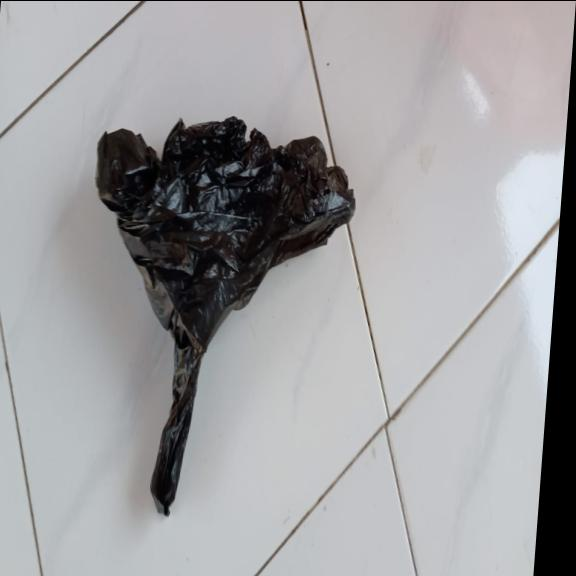Plastik: (67, 115, 360, 517)
